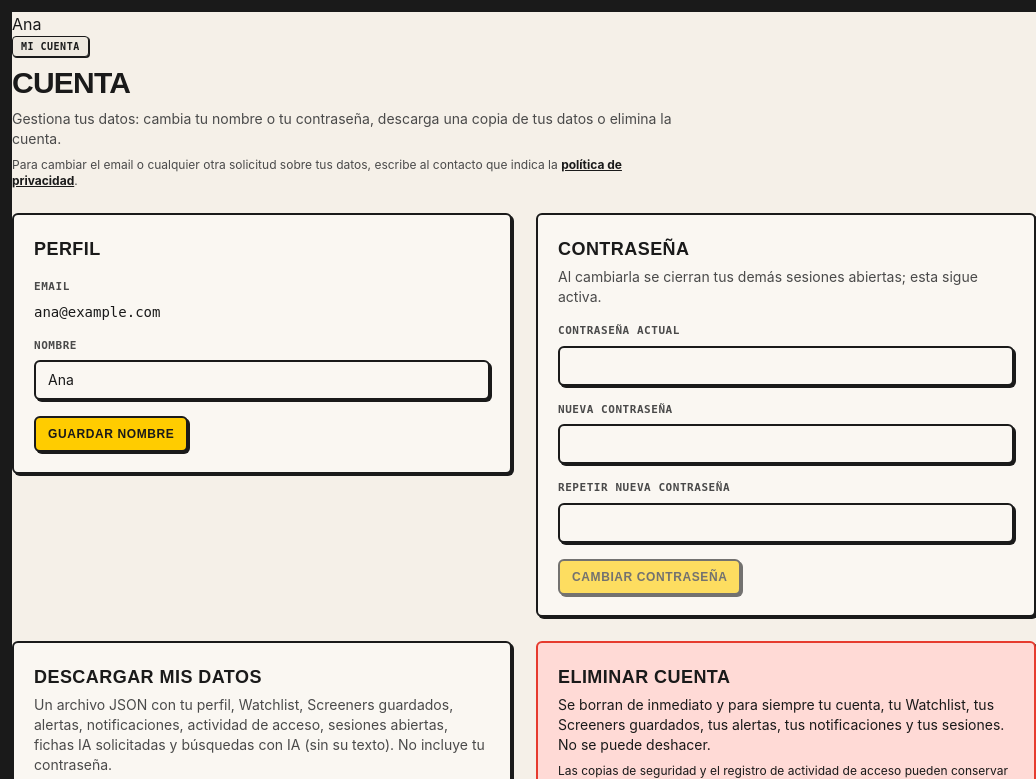
Scenario: saves the name and updates the signed-in user without a reload
Replace the text in the field labelled "Nombre" with "Ana María" at (262, 380), box left=34, top=360, right=490, bottom=400
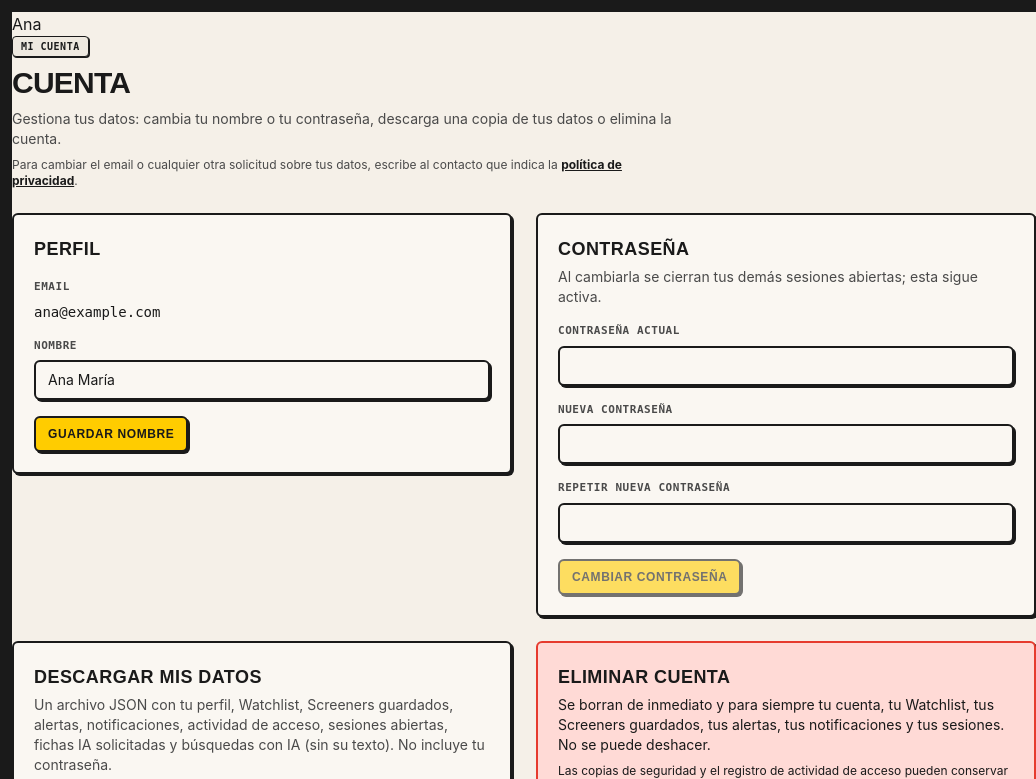
Click the button "Guardar nombre" at (111, 434), box left=34, top=416, right=188, bottom=452
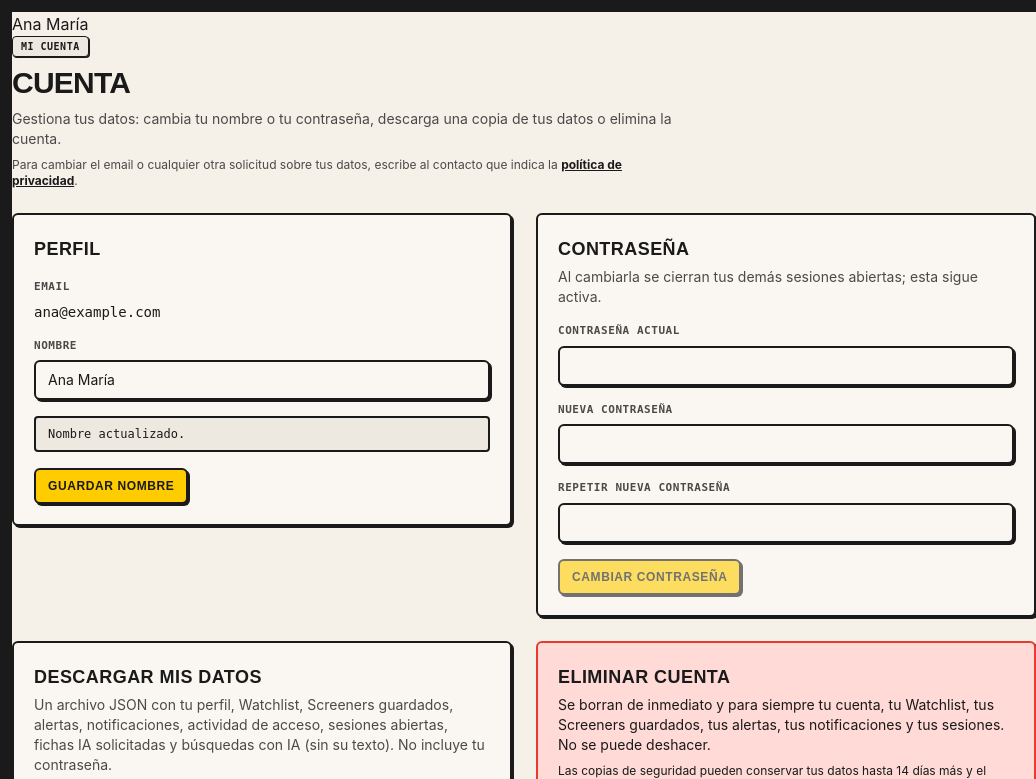
Expected: the text "Nombre actualizado." is shown, left=34, top=416, right=490, bottom=452
Expected: the text with test id "header-name" reads "Ana María", left=12, top=14, right=88, bottom=34
